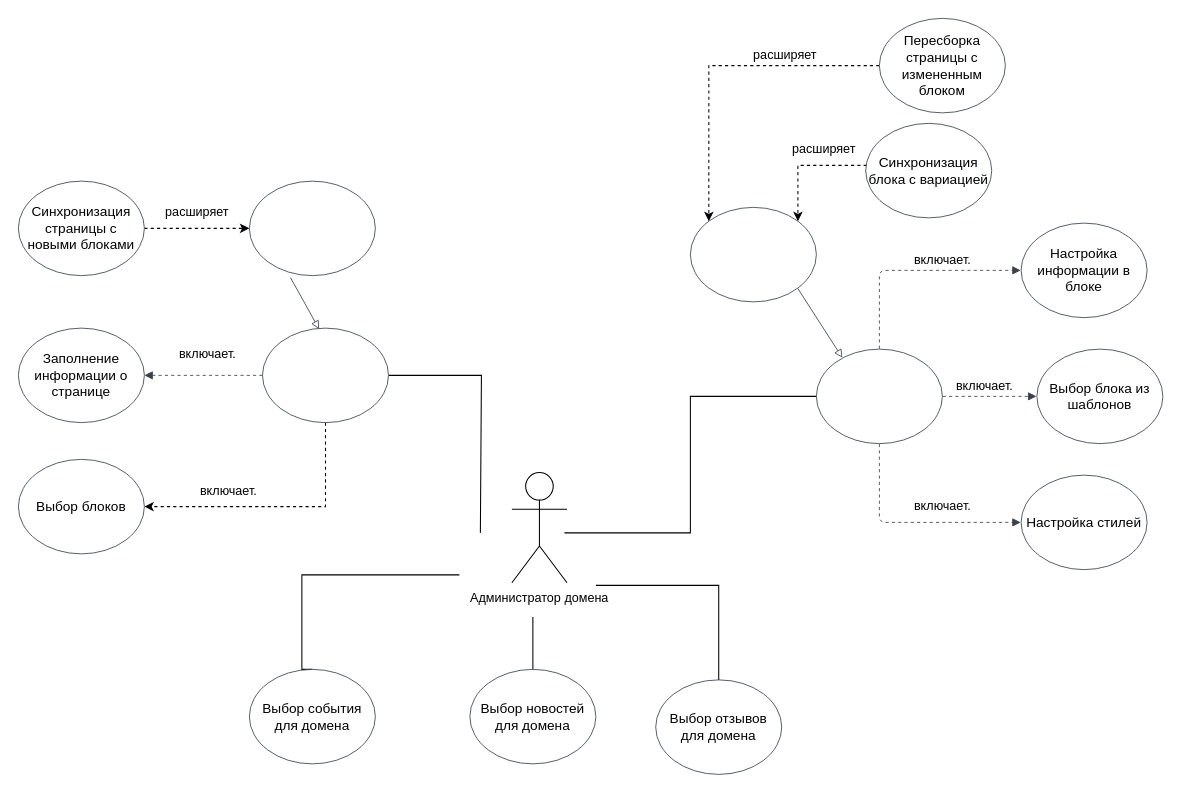
Some shapes in this 1181 by 793 pixel diagram are drawn without their labels. Here are the shapes that lost their labels. From the top down, the centre of each, then its label:
point 311,228: Редактирование страниц
point 752,254: Редактирование блоков
point 325,375: Создание страниц
point 878,396: Создание блоков
